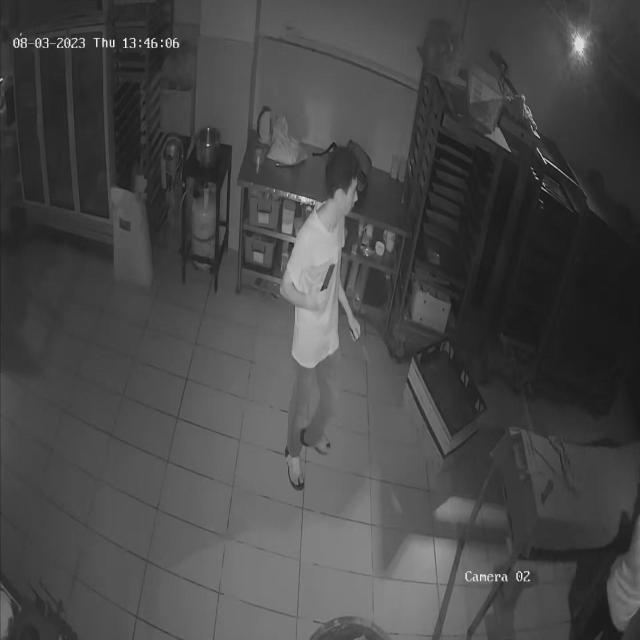Knife: (346, 327, 382, 371)
